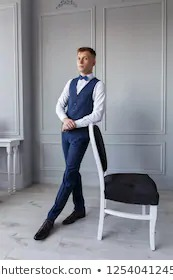F_shirt: (55, 75, 105, 128)
